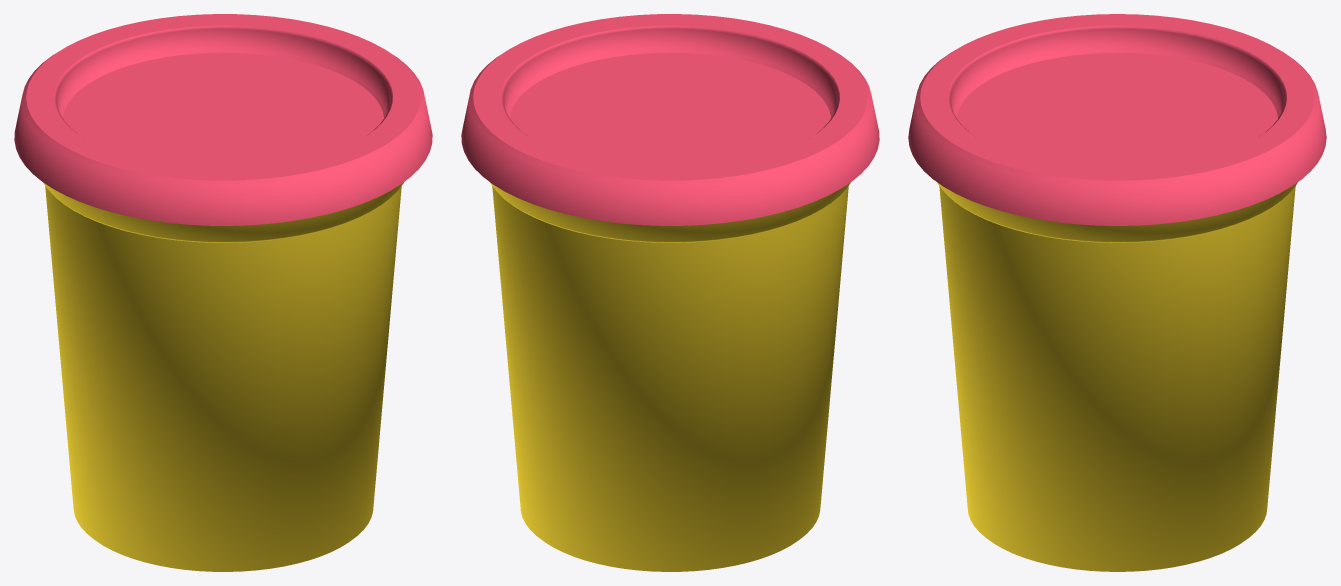
File: ToyObject_061.fbx
The picture shows the model from 3 angles, left to right: view 1: azimuth 30°, elevation 25°; view 2: azimuth 150°, elevation 25°; view 3: azimuth 270°, elevation 25°; orthographic projection.
Visible parts, largest first — view 1: object-1.030; view 2: object-1.030; view 3: object-1.030.
Part boxes in pixels (left/top/right/bottom): object-1.030: left=14, top=14, right=432, bottom=571; object-1.030: left=461, top=14, right=879, bottom=571; object-1.030: left=908, top=14, right=1326, bottom=571.
Bounding box in the file's own units: 0.0837 × 0.091 × 0.0837.
